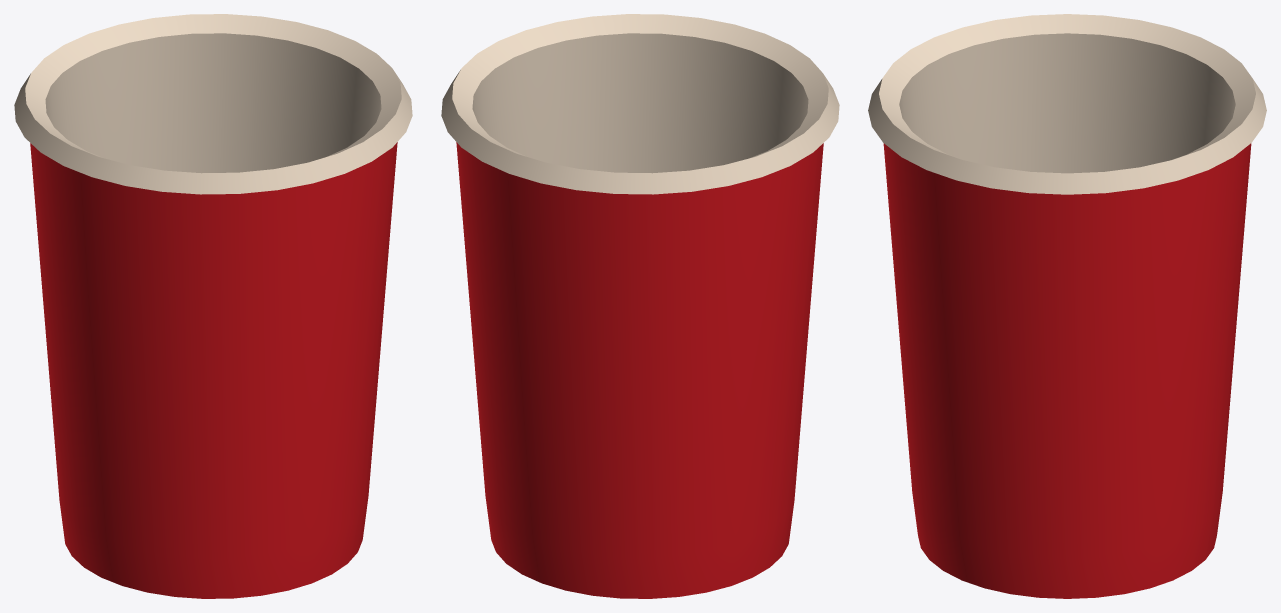
File: Cup.fbx
3 renders of one model, left to right at view 1: azimuth 30°, elevation 25°; view 2: azimuth 150°, elevation 25°; view 3: azimuth 270°, elevation 25°, orthographic.
Visible parts, largest first — view 1: Cup; view 2: Cup; view 3: Cup.
Part boxes in pixels (<box>): Cup: <box>14,14,412,598</box>; Cup: <box>441,14,839,598</box>; Cup: <box>868,14,1266,598</box>.
Size of the model in its own units: 7.45 by 9.11 by 7.45.
